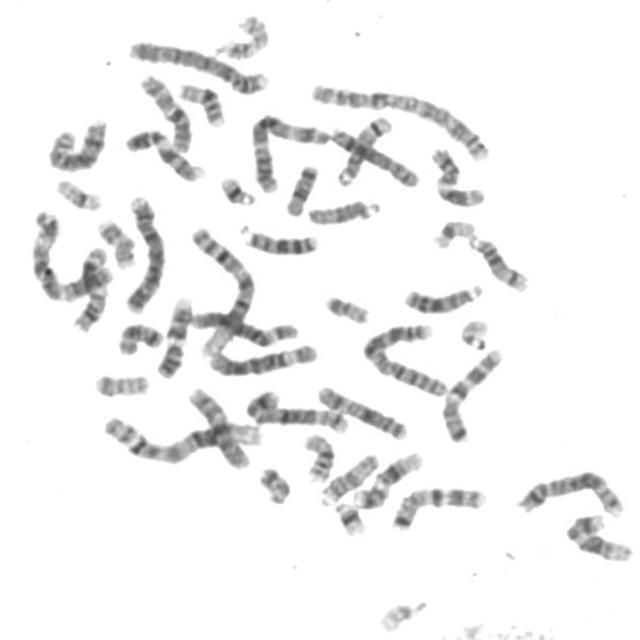A1: (186, 218, 261, 358), (96, 407, 265, 468)
A2: (305, 77, 495, 162), (358, 316, 454, 398)
A3: (26, 202, 116, 304), (246, 105, 333, 195)
B4: (124, 33, 272, 97), (120, 188, 168, 314)
B5: (512, 463, 629, 517), (242, 384, 353, 434)
C10: (183, 379, 255, 472), (136, 66, 196, 154)
C11: (426, 140, 490, 208), (68, 240, 114, 334)
C12: (349, 446, 427, 510), (561, 508, 637, 564)
C6: (187, 302, 303, 350), (203, 337, 323, 378)
C7: (437, 340, 507, 444), (388, 479, 491, 532)
C8: (326, 120, 424, 189), (43, 112, 111, 174)
C9: (120, 122, 210, 183), (152, 290, 196, 380)
D13: (400, 276, 487, 316), (237, 218, 321, 256)
D14: (333, 109, 396, 187), (465, 228, 533, 294)
D15: (315, 447, 383, 508), (303, 192, 384, 226)
E16: (174, 76, 230, 128), (299, 426, 339, 484)
E17: (214, 8, 274, 61), (92, 212, 141, 270)
E18: (280, 158, 322, 216), (115, 316, 167, 356)
F19: (51, 172, 106, 212), (428, 212, 479, 250)
F20: (90, 366, 154, 398), (321, 288, 374, 326)
G21: (330, 494, 370, 537), (216, 170, 260, 208)
G22: (374, 593, 429, 634), (456, 312, 493, 351)
X: (314, 378, 412, 442)
